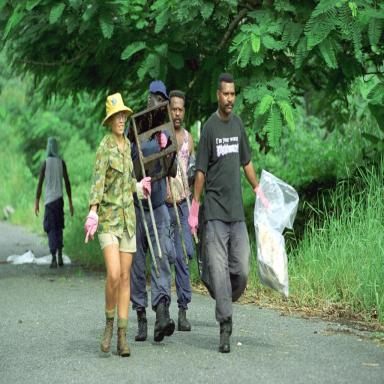plasticbag: (251, 168, 300, 303)
